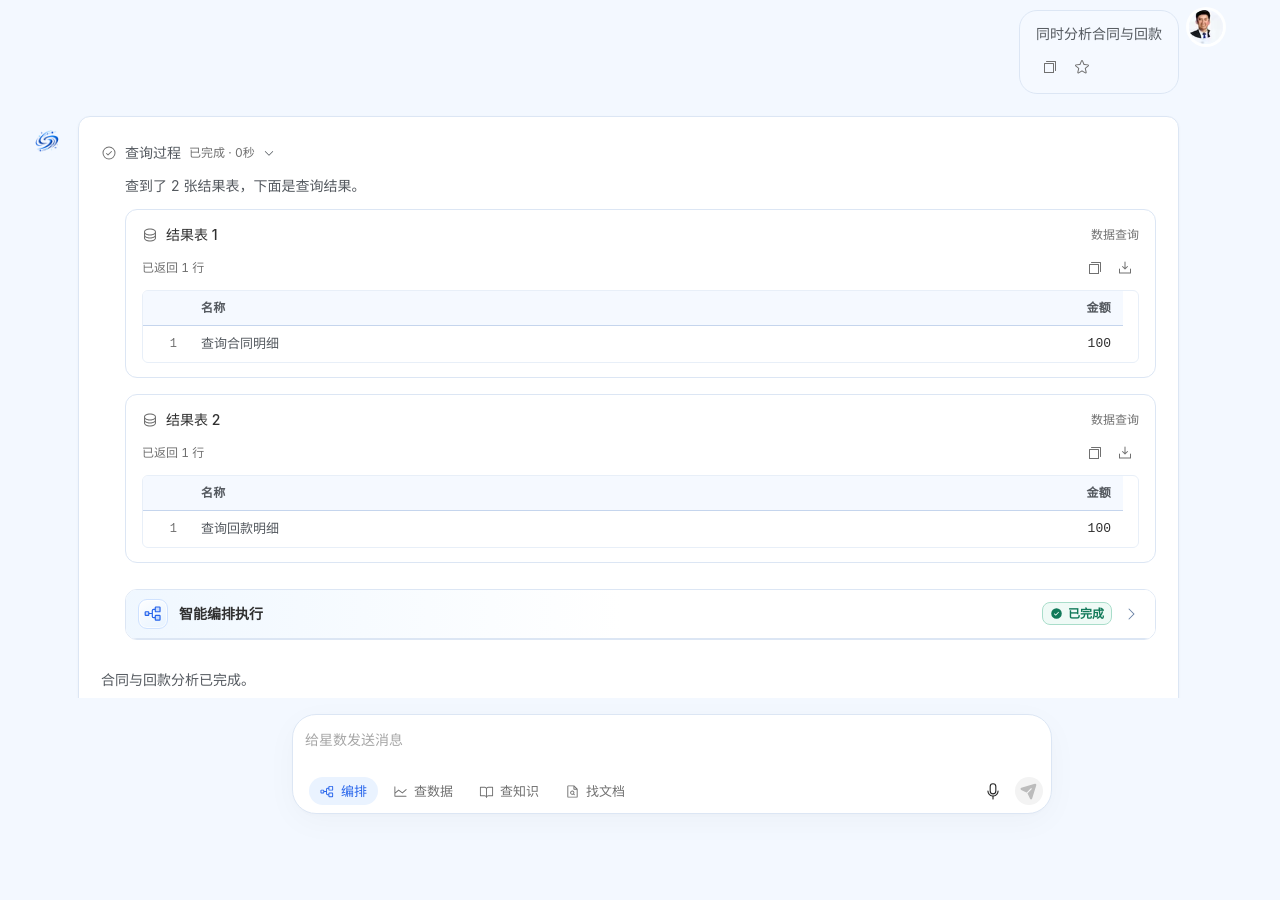
it: workflow page actions › lets users choose a data result when orchestration returns multiple query assets
The width and height of the screenshot is (1280, 900).
Click the button named "收藏数据结果（2）" at coordinates (1082, 67), box [1068,53,1096,81]
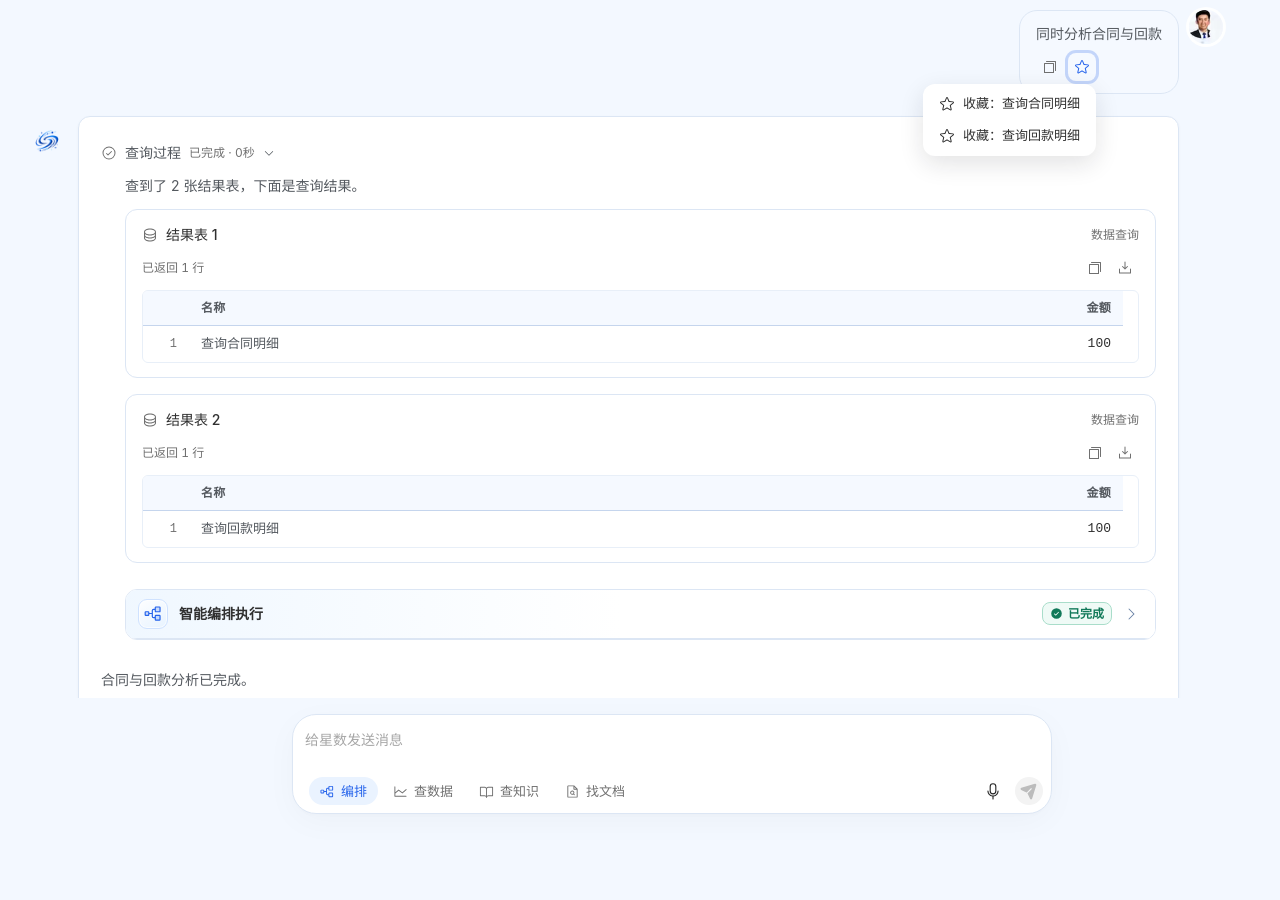
Click the menu item "收藏：查询回款明细" at coordinates (1010, 136), box [939,127,1080,144]
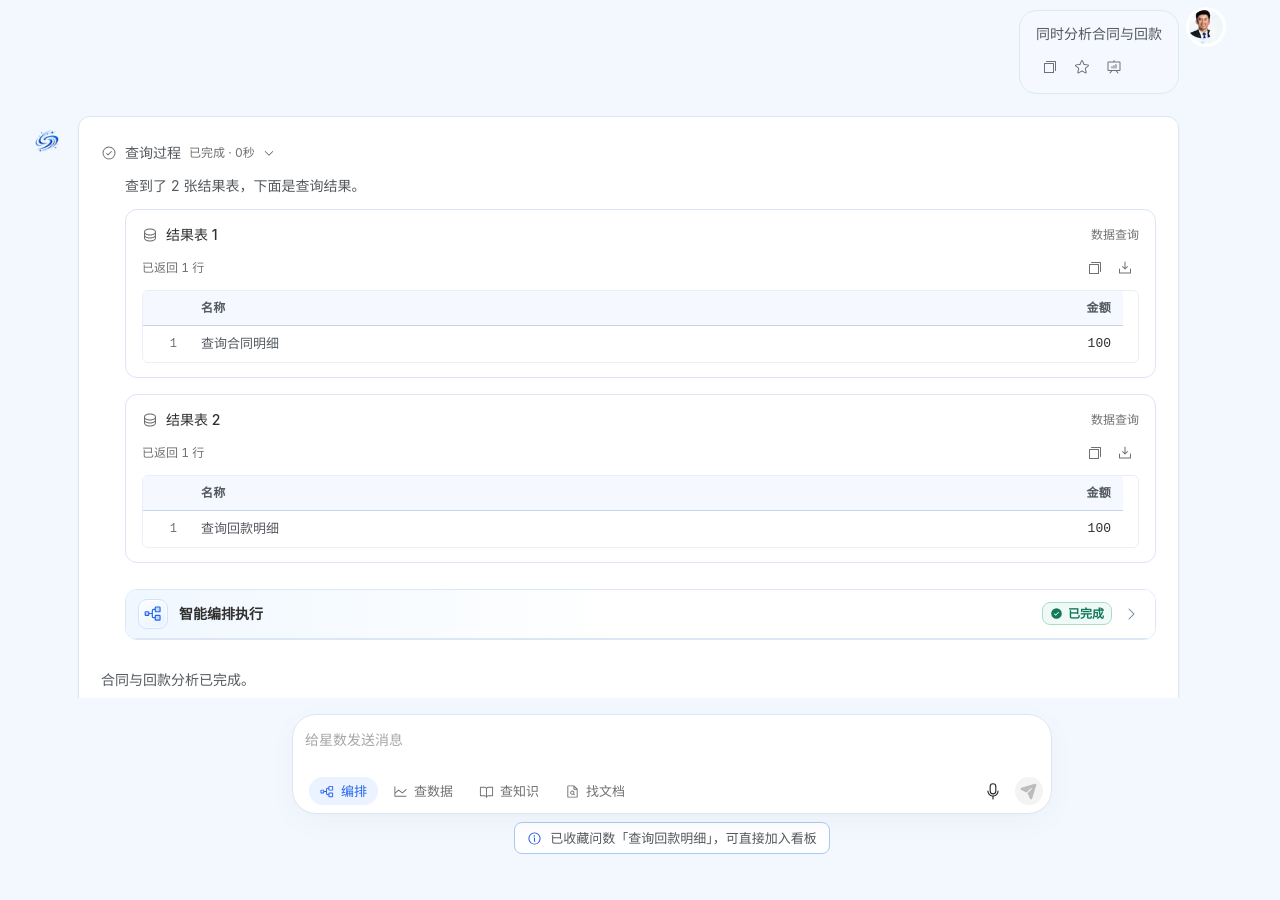
Now the button named "加入看板" is enabled, box [1100,53,1128,81]
